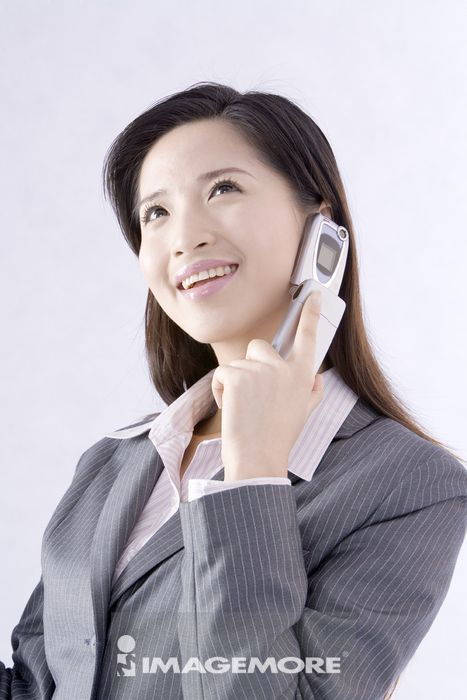talk: (133, 162, 349, 481)
